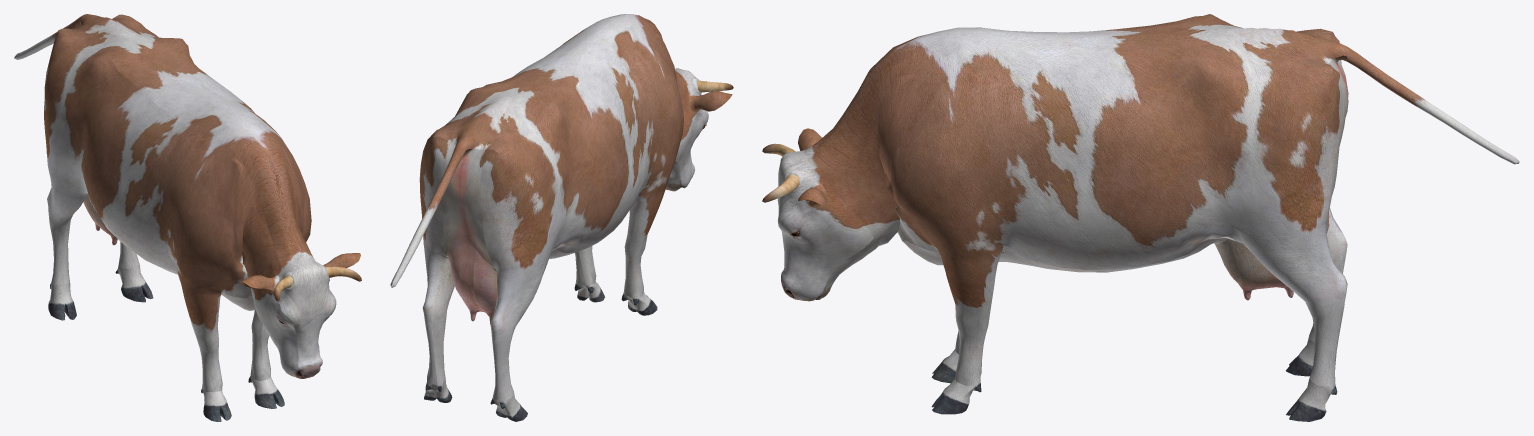
File: cow_eating.glb
3 views of the same model, side by side, from view 1: azimuth 30°, elevation 25°; view 2: azimuth 150°, elevation 25°; view 3: azimuth 270°, elevation 25° (orthographic). The views are drawn at different scales.
Parts seen in each view (by area): view 1: Cow; view 2: Cow; view 3: Cow.
Part boxes in pixels (box(x1,y1,x2,y2)): Cow: box(14, 14, 361, 421); Cow: box(390, 14, 733, 421); Cow: box(762, 14, 1519, 421).
Bounding box in the file's own units: 0.7698 × 1.51 × 2.83.
Materials: 1 (1 with a texture image).
